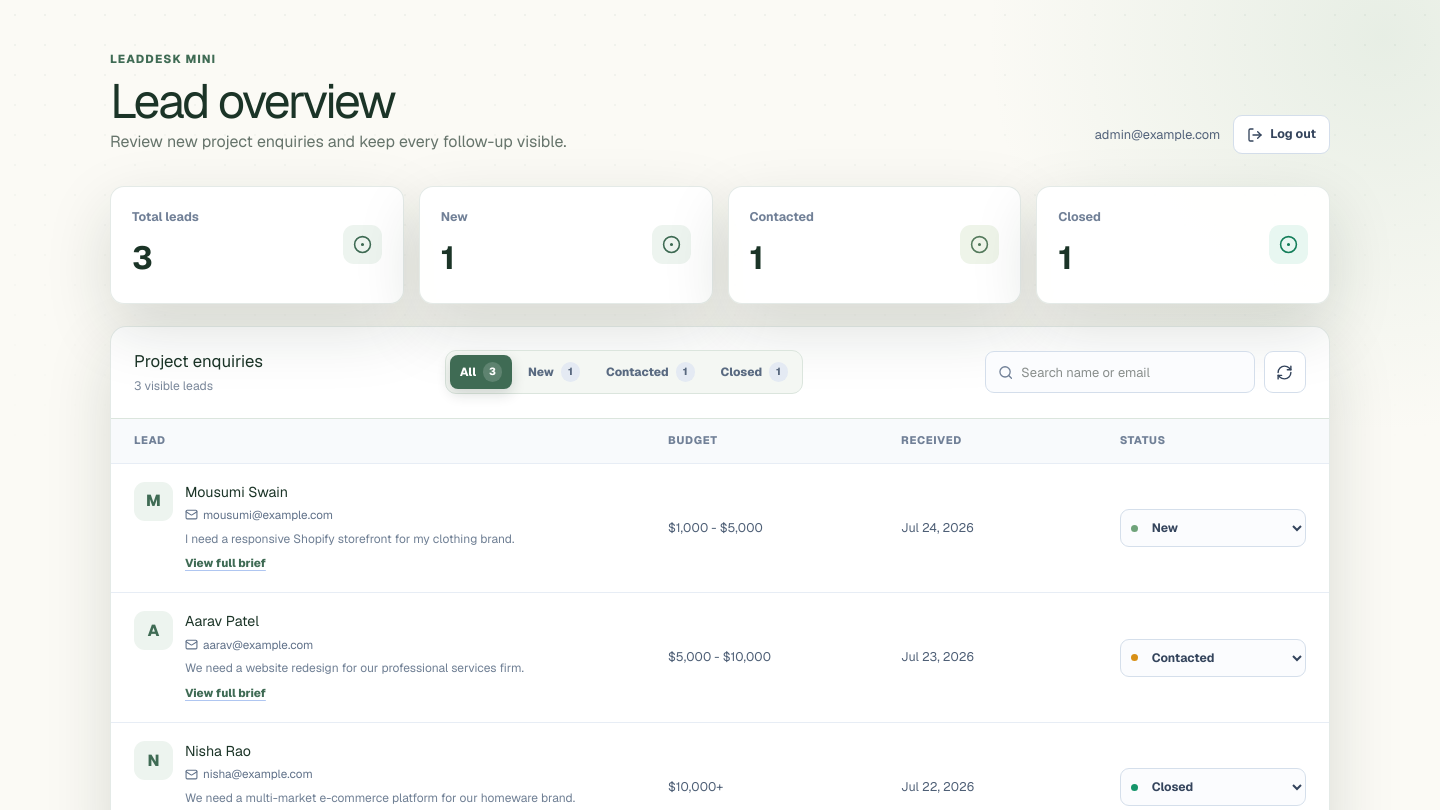
Scenario: AdminDashboard › opens the selected lead in a complete project brief dialog
Expected: the heading "Mousumi Swain" is shown, [185, 483, 288, 501]
Click the button with aria-label "View full brief from Mousumi Swain" at (225, 563), box [185, 554, 266, 572]
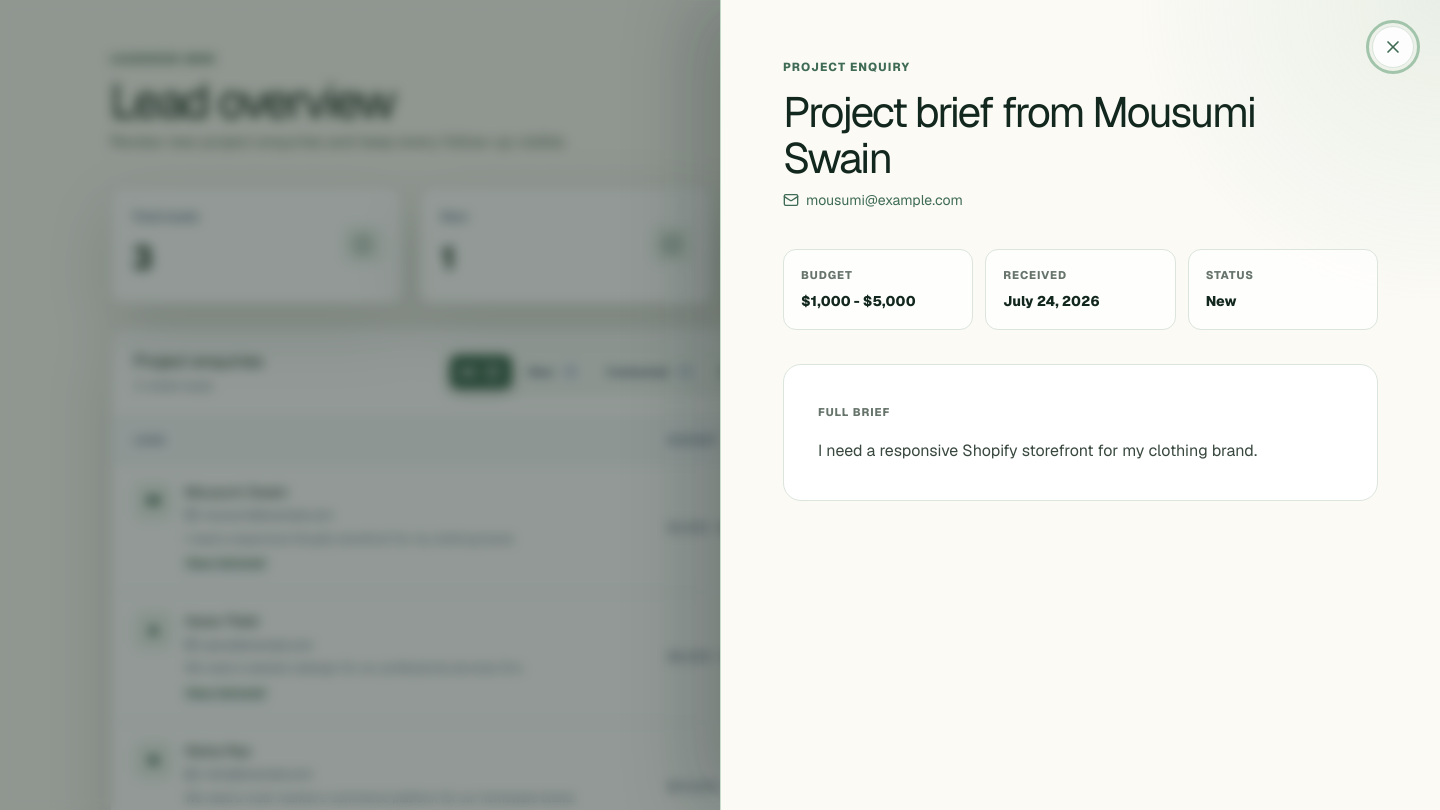
Expected: the dialog "Project brief from Mousumi Swain" is shown, [720, 0, 1439, 809]
Expected: the link "mousumi@example.com" is shown, [783, 190, 963, 211]
Expected: the text "$1,000 - $5,000" is shown, [801, 292, 916, 310]
